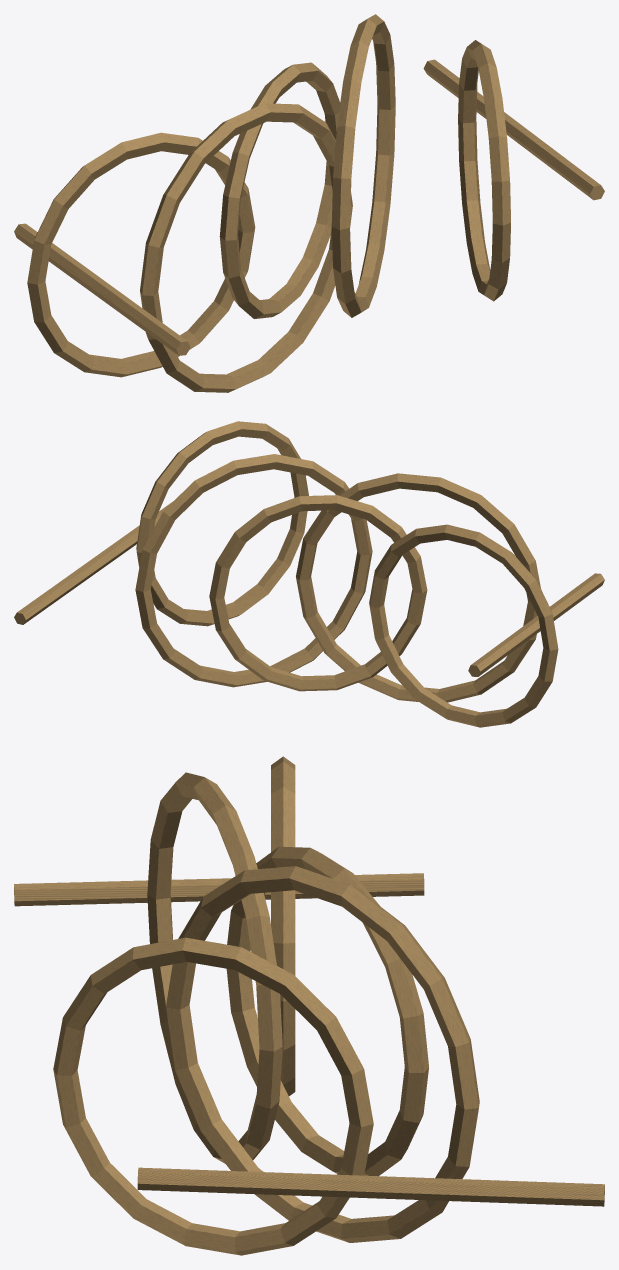
Rendered from en-004_rope_debris_set__medium.obj.
3 views of the same model, one above another, from view 1: azimuth 30°, elevation 25°; view 2: azimuth 150°, elevation 25°; view 3: azimuth 270°, elevation 25° (orthographic). The views are drawn at different scales.
Visible parts, largest first — view 1: en-004_rope_debris_set__medium; view 2: en-004_rope_debris_set__medium; view 3: en-004_rope_debris_set__medium.
Part boxes in pixels (box(x1,y1,x2,y2)): en-004_rope_debris_set__medium: box(14, 14, 604, 392); en-004_rope_debris_set__medium: box(14, 421, 604, 727); en-004_rope_debris_set__medium: box(14, 756, 604, 1255).
Bounding box in the file's own units: 1.01 × 0.5184 × 0.7385.
1 material, 1 textured.
